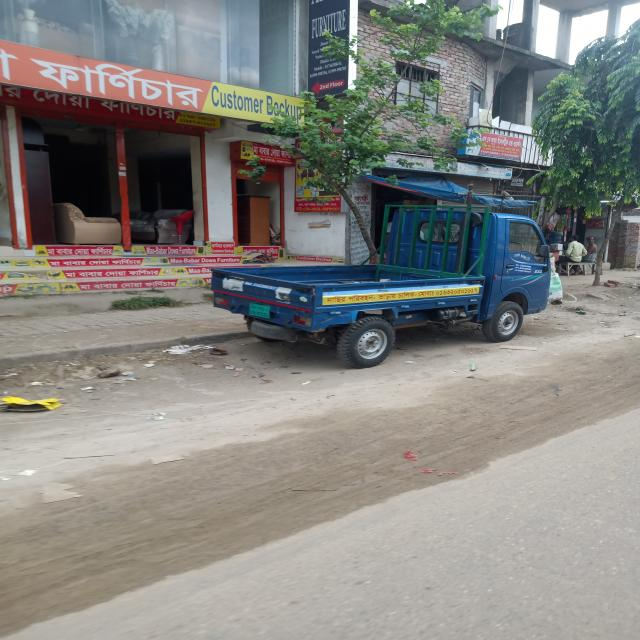truck: (211, 205, 552, 369)
